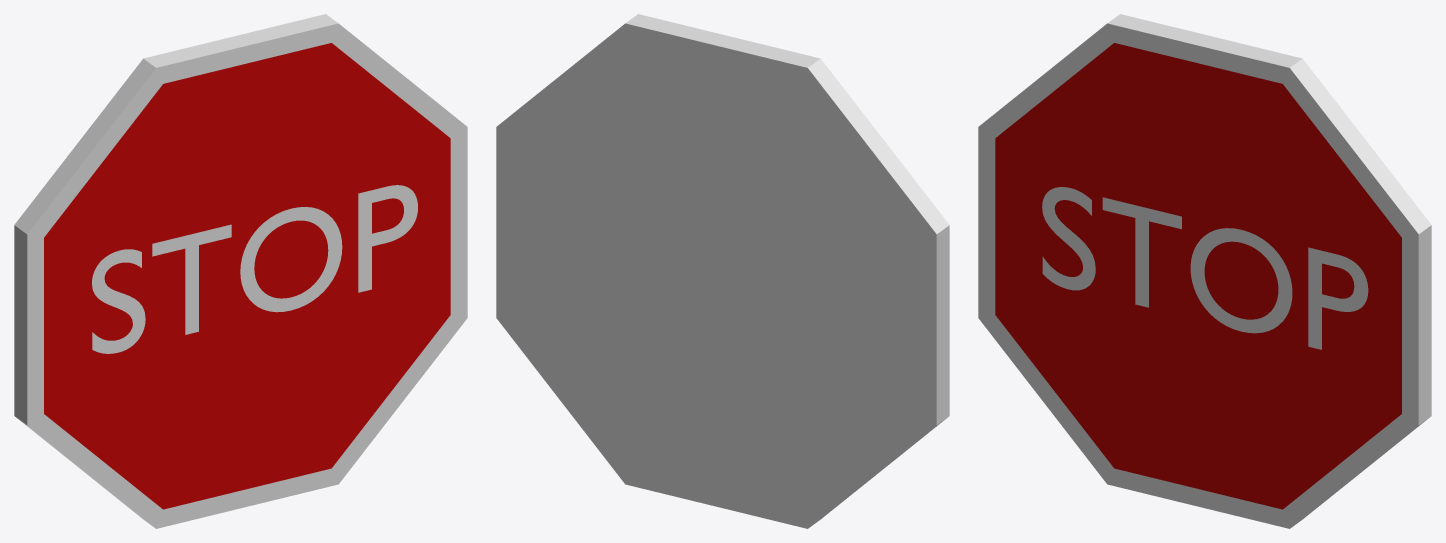
Rendered from STOP.fbx.
3 renders of one model, left to right at view 1: azimuth 30°, elevation 25°; view 2: azimuth 150°, elevation 25°; view 3: azimuth 330°, elevation 25°, orthographic.
Parts seen in each view (by area): view 1: Cylinder; view 2: Cylinder; view 3: Cylinder.
Part boxes in pixels (box(x1,y1,x2,y2)): Cylinder: box(14, 14, 467, 528); Cylinder: box(496, 14, 949, 528); Cylinder: box(978, 14, 1431, 528).
Size of the model in its own units: 89.3 by 4.69 by 89.3.
